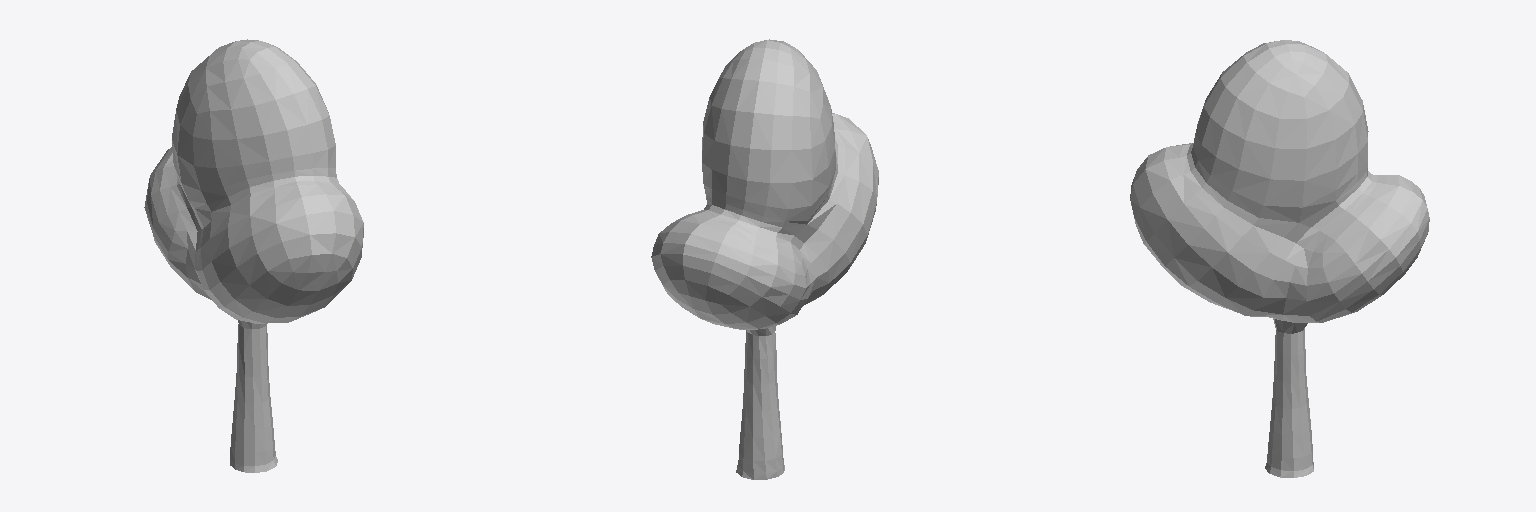
File: drzewo2.obj
3 views of the same model, side by side, from view 1: azimuth 30°, elevation 25°; view 2: azimuth 150°, elevation 25°; view 3: azimuth 270°, elevation 25° (orthographic).
Visible parts, largest first — view 1: drzewo_h2_low_Baked; view 2: drzewo_h2_low_Baked; view 3: drzewo_h2_low_Baked.
Boxes of the visible parts, box(x1,y1,x2,y2) form: drzewo_h2_low_Baked: box(144, 39, 363, 472); drzewo_h2_low_Baked: box(651, 39, 878, 479); drzewo_h2_low_Baked: box(1130, 40, 1429, 477).
Size of the model in its own units: 4.11 by 11.89 by 7.64.